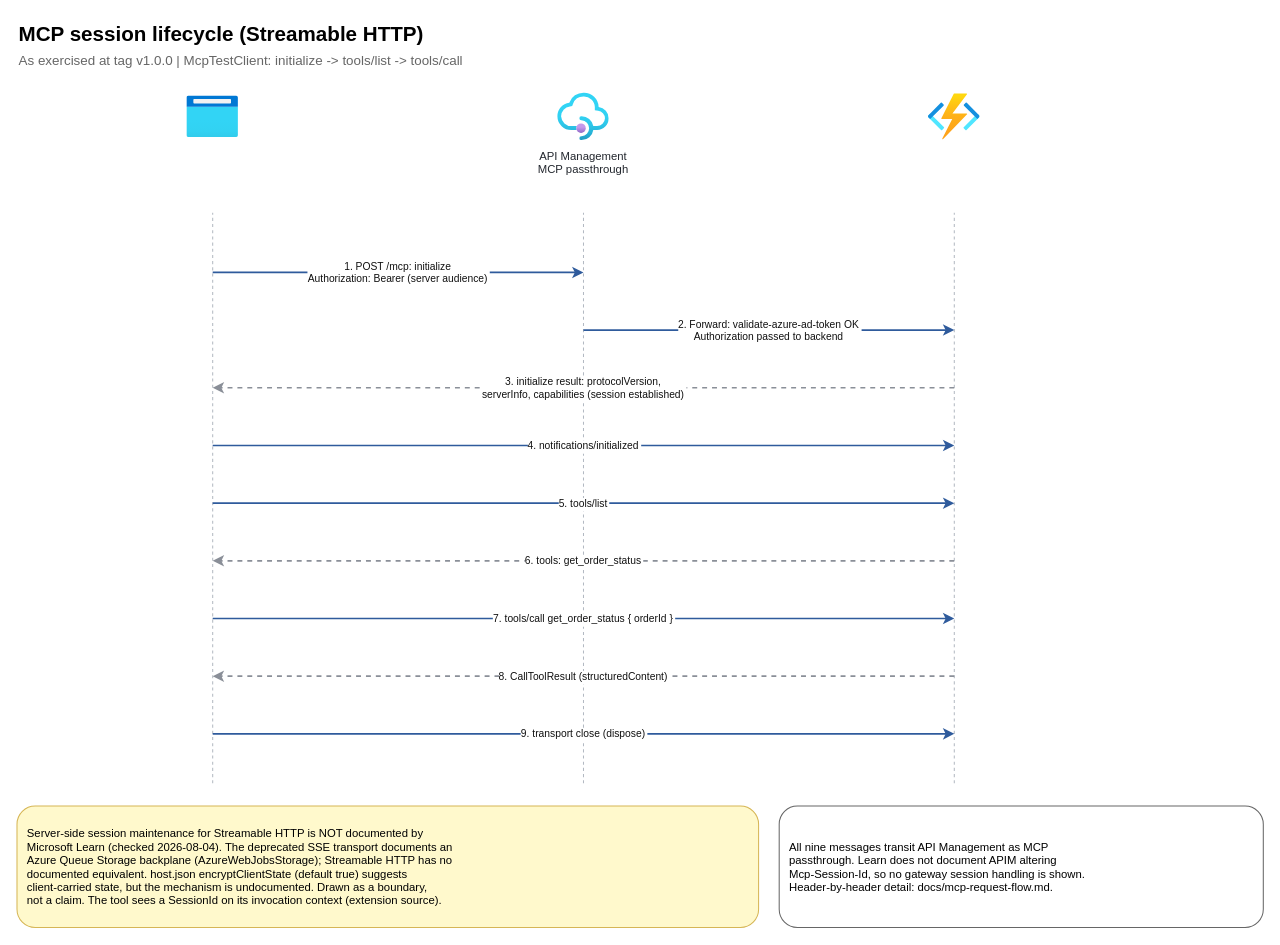
The diagram is 1280 pixels wide and 945 high, and some of its shapes have lost their labels. The box of each missing label's shape, as (x1, y1, x2, y2) in pixels:
MCP client ModelContextProtocol SDK: (186, 91, 238, 142)
MCP Function App Streamable HTTP /runtime/webhooks/mcp: (928, 91, 980, 142)
